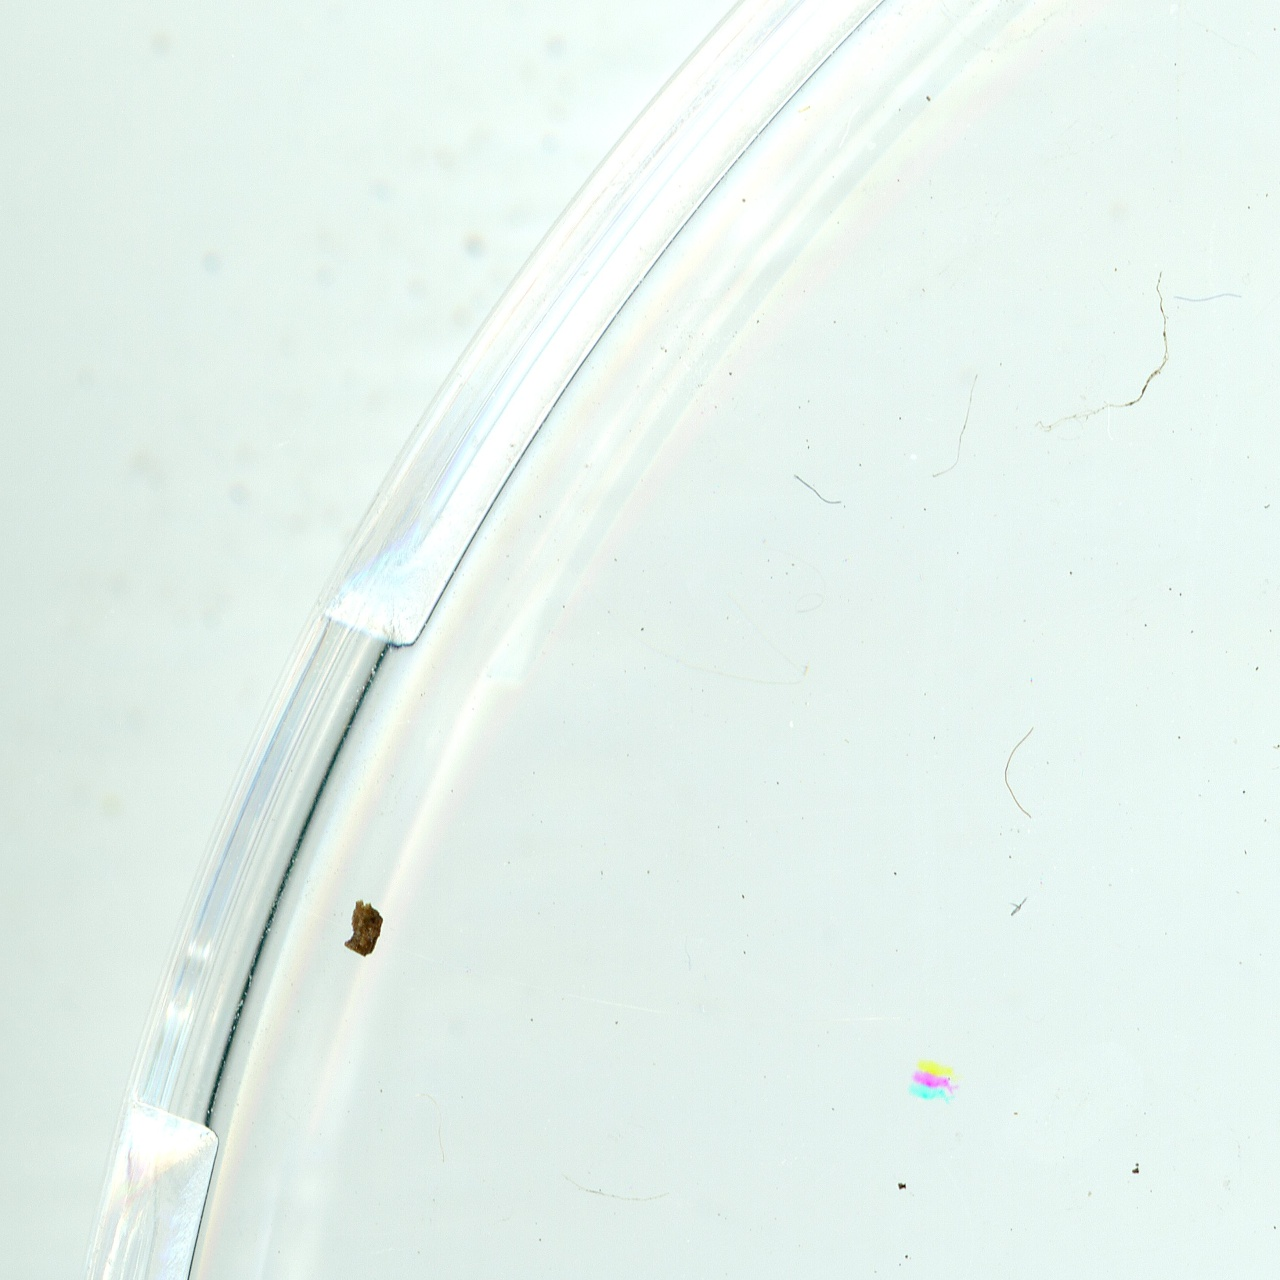arthropod: (903, 1056, 968, 1109)
